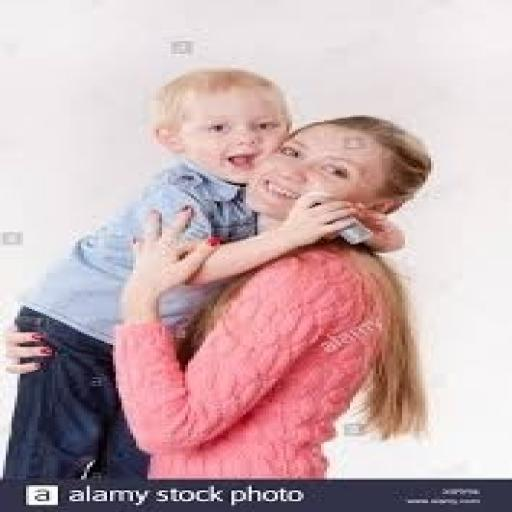hugging: (3, 64, 437, 480)
